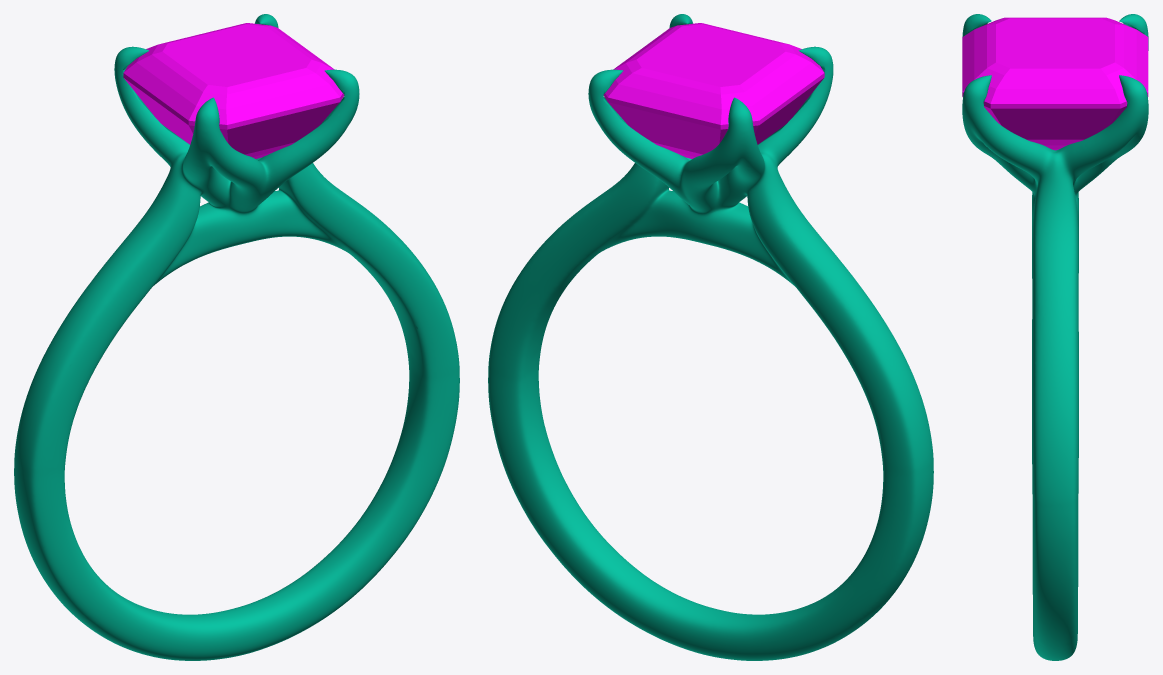
Rendered from BE1761_AS_200ct_RENDER.glb.
3 renders of one model, left to right at view 1: azimuth 30°, elevation 25°; view 2: azimuth 150°, elevation 25°; view 3: azimuth 270°, elevation 25°, orthographic.
Visible parts, largest first — view 1: Metal 01, CS_Diamond_Asscher; view 2: Metal 01, CS_Diamond_Asscher; view 3: Metal 01, CS_Diamond_Asscher.
Part boxes in pixels (x1,y1,x2,y2): Metal 01: (14, 14, 459, 660); CS_Diamond_Asscher: (123, 23, 344, 158); Metal 01: (488, 14, 933, 660); CS_Diamond_Asscher: (603, 23, 824, 158); Metal 01: (962, 14, 1148, 660); CS_Diamond_Asscher: (962, 17, 1148, 150).
Bounding box in the file's own units: 20.11 × 26.44 × 7.52.
